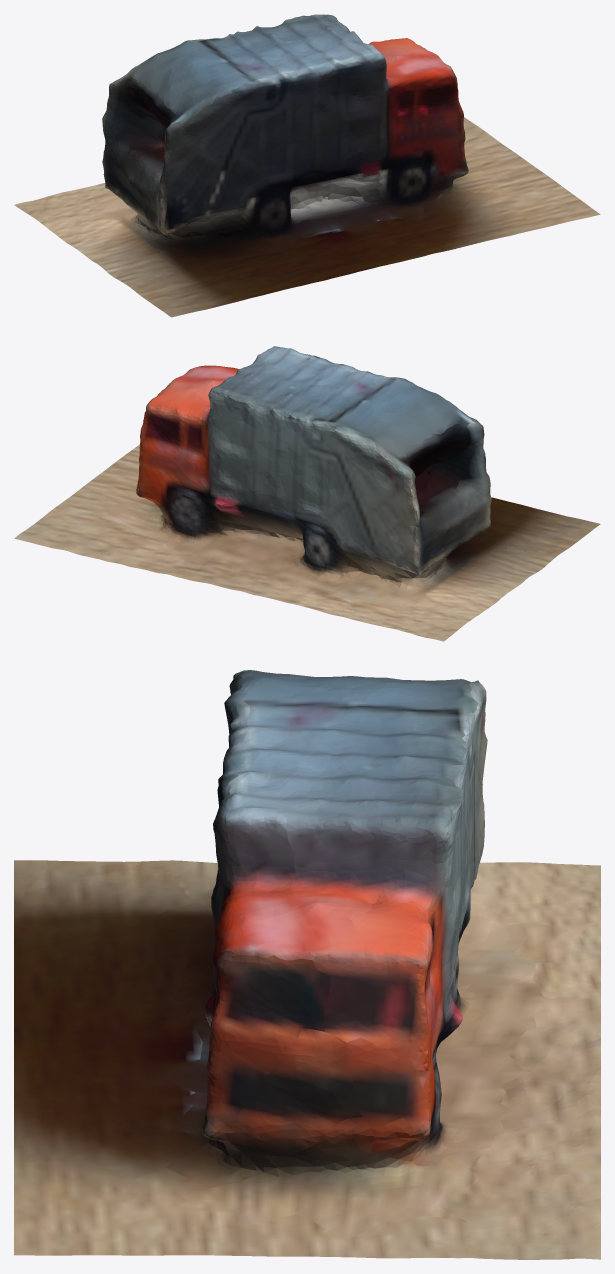
File: dumptruck.glb
3 renders of one model, top to bottom at view 1: azimuth 30°, elevation 25°; view 2: azimuth 150°, elevation 25°; view 3: azimuth 270°, elevation 25°, orthographic. The views are drawn at different scales.
Parts seen in each view (by area): view 1: mesh.001; view 2: mesh.001; view 3: mesh.001.
Boxes of the visible parts, x1,y1,x2,y2 form: mesh.001: (14,14,600,317); mesh.001: (14,346,600,641); mesh.001: (14,670,600,1259).
Size of the model in its own units: 0.1092 by 0.0394 by 0.0693.
1 material, 1 textured.
